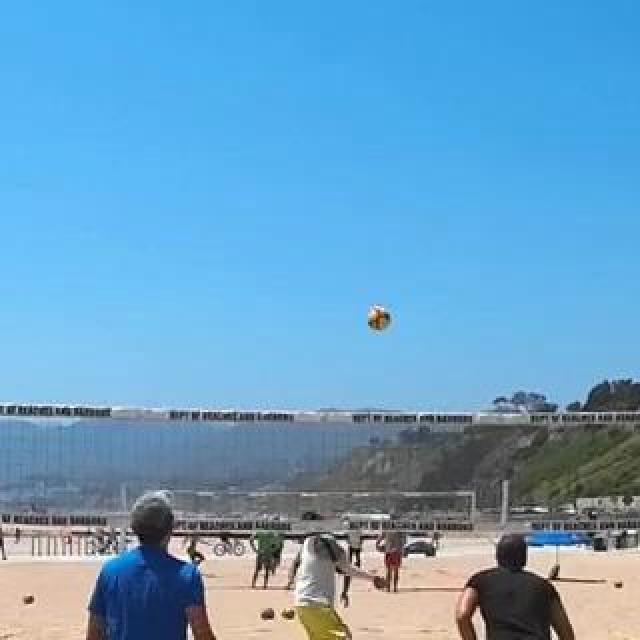volleyball: (368, 306, 392, 330), (261, 606, 275, 620), (281, 607, 295, 621), (22, 593, 34, 605), (613, 578, 623, 588)
